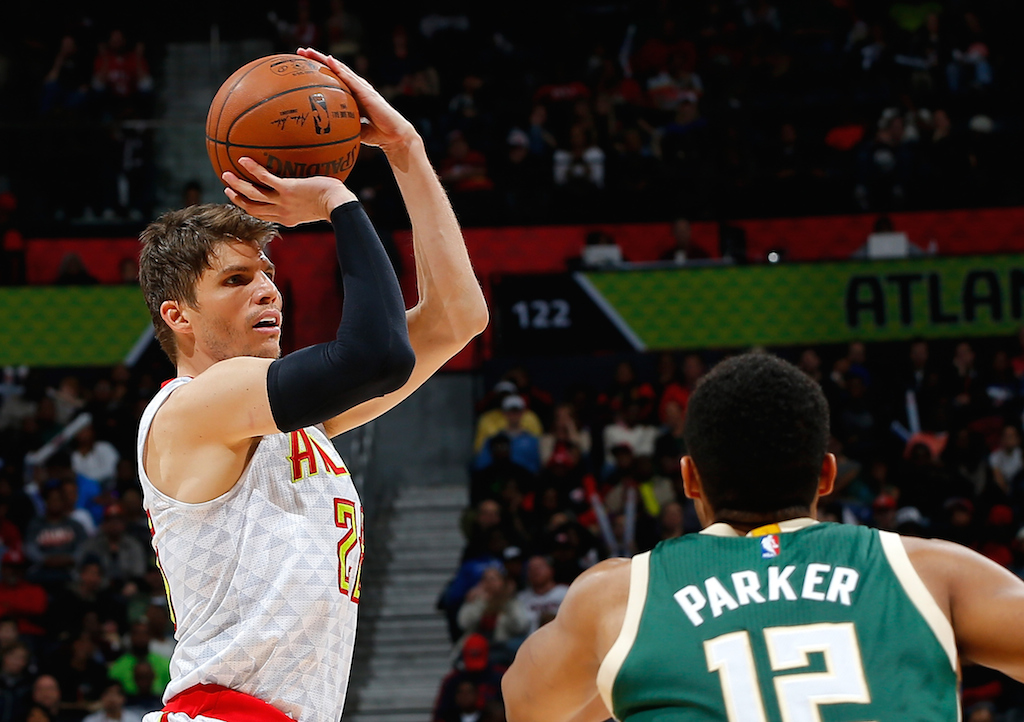Basketball: (203, 52, 363, 187)
